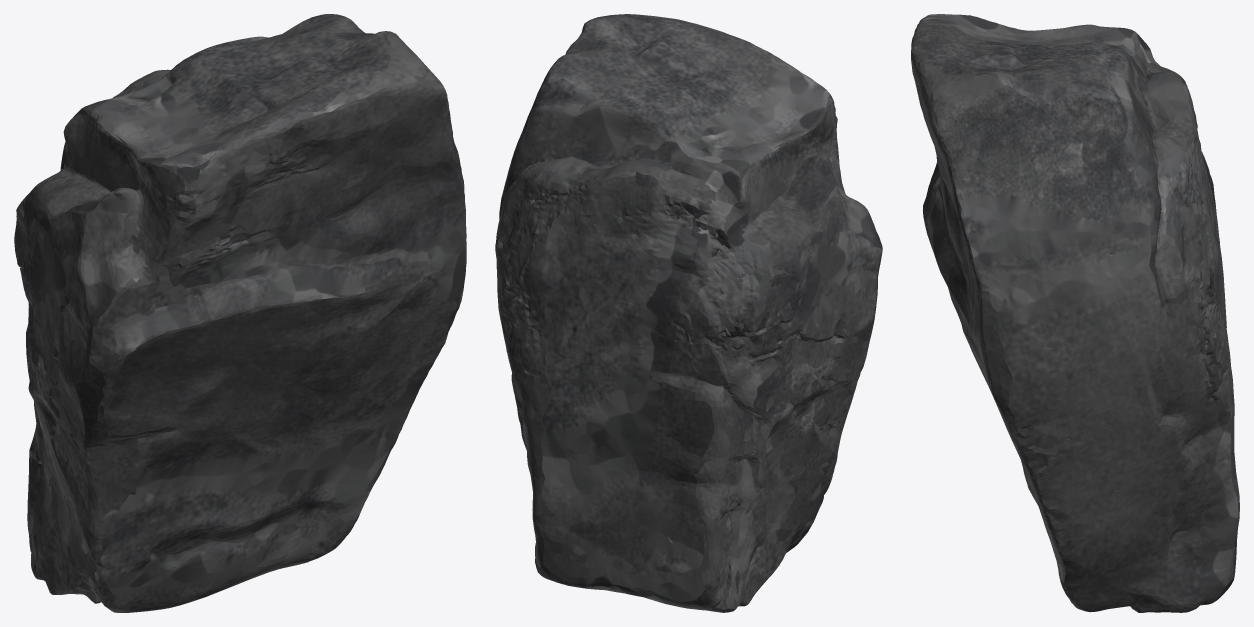
Rendered from world_C1.obj.
The picture shows the model from 3 angles, left to right: view 1: azimuth 30°, elevation 25°; view 2: azimuth 150°, elevation 25°; view 3: azimuth 270°, elevation 25°; orthographic projection. The views are drawn at different scales.
Visible parts, largest first — view 1: geometry_0; view 2: geometry_0; view 3: geometry_0.
Boxes of the visible parts, x1,y1,x2,y2 form: geometry_0: (14,14,466,612); geometry_0: (495,14,882,612); geometry_0: (911,14,1239,612).
Bounding box in the file's own units: 0.7805 × 1.06 × 0.5684.
1 material, 1 textured.
